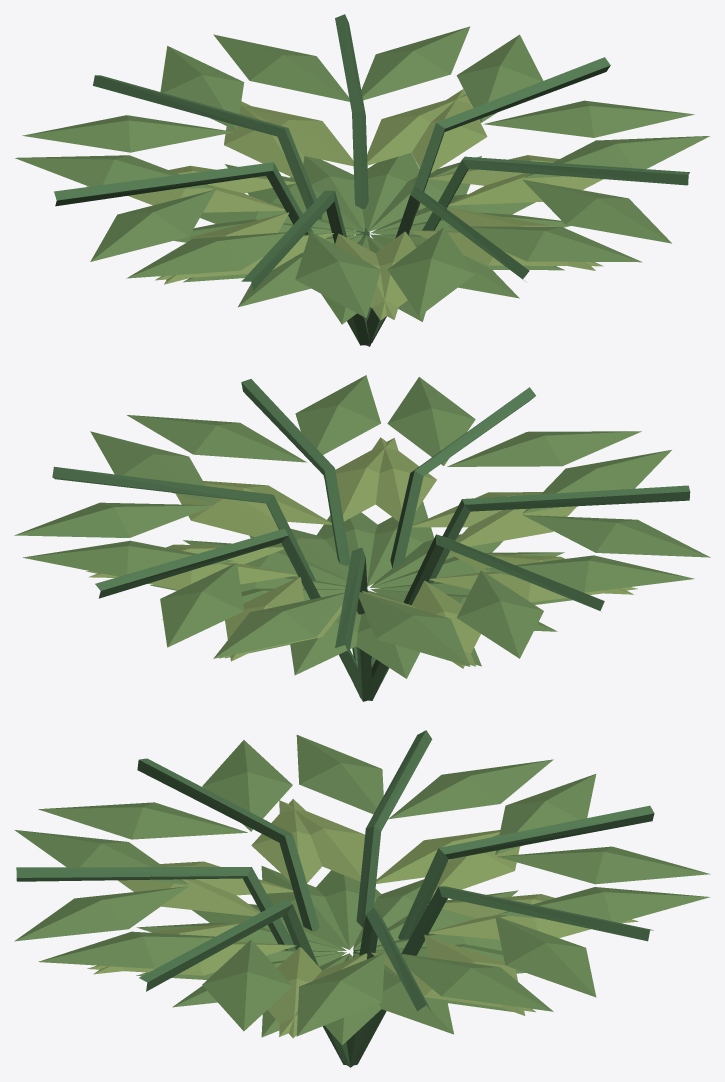
The model's file is bush-fern.glb.
3 renders of one model, top to bottom at view 1: azimuth 30°, elevation 25°; view 2: azimuth 150°, elevation 25°; view 3: azimuth 270°, elevation 25°, orthographic. The views are drawn at different scales.
Parts seen in each view (by area): view 1: bush-fern_mesh; view 2: bush-fern_mesh; view 3: bush-fern_mesh.
Boxes of the visible parts, x1,y1,x2,y2 form: bush-fern_mesh: [15, 14, 709, 346]; bush-fern_mesh: [14, 375, 710, 701]; bush-fern_mesh: [14, 730, 710, 1067].
Size of the model in its own units: 1.18 by 0.3601 by 1.15.
